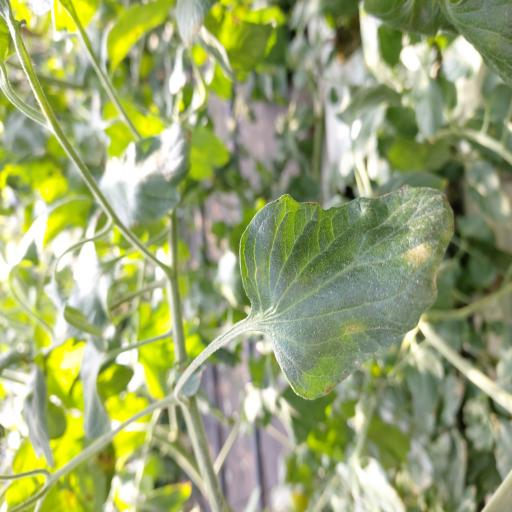Leaf Mold: (239, 187, 453, 401)
